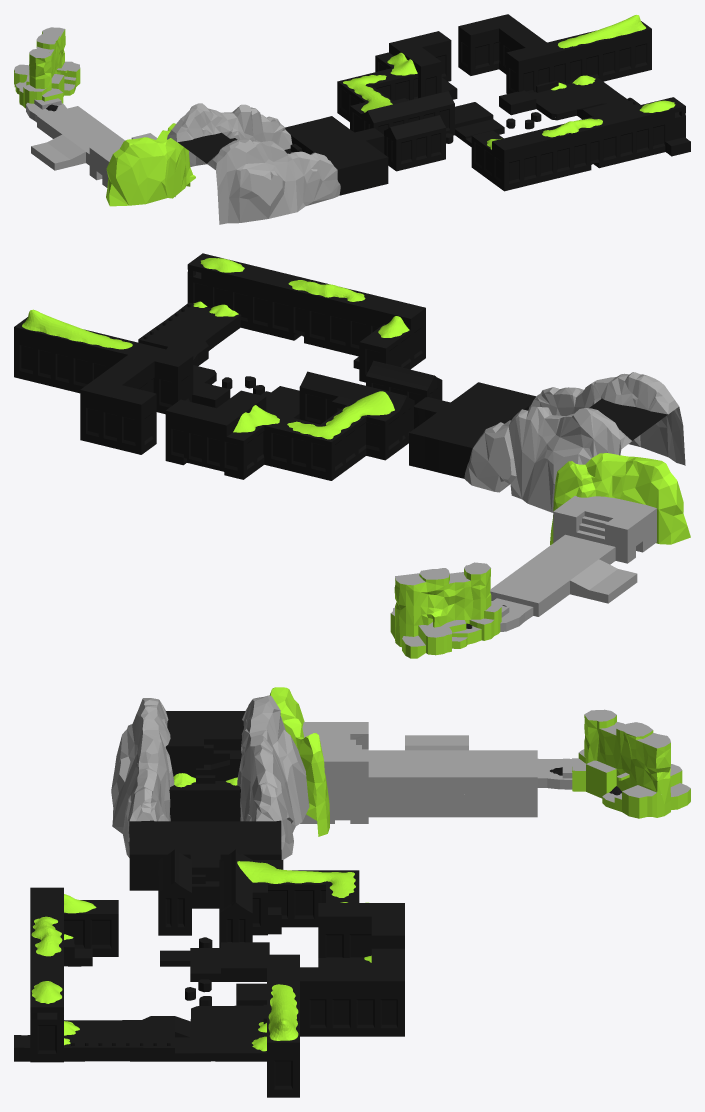
The model's file is LavaGroundA.obj.
The picture shows the model from 3 angles, top to bottom: view 1: azimuth 30°, elevation 25°; view 2: azimuth 150°, elevation 25°; view 3: azimuth 270°, elevation 25°; orthographic projection. The views are drawn at different scales.
Parts seen in each view (by area): view 1: LavaWorldHomeGround000.obj, LavaWorldHomeGround001.obj; view 2: LavaWorldHomeGround000.obj, LavaWorldHomeGround001.obj; view 3: LavaWorldHomeGround000.obj, LavaWorldHomeGround001.obj.
Part boxes in pixels (x1,y1,x2,y2): LavaWorldHomeGround000.obj: [167, 14, 690, 224]; LavaWorldHomeGround001.obj: [14, 27, 195, 206]; LavaWorldHomeGround000.obj: [14, 253, 685, 512]; LavaWorldHomeGround001.obj: [390, 453, 690, 658]; LavaWorldHomeGround000.obj: [14, 695, 404, 1097]; LavaWorldHomeGround001.obj: [269, 687, 690, 836].
Size of the model in its own units: 27950 by 4906 by 22232.
